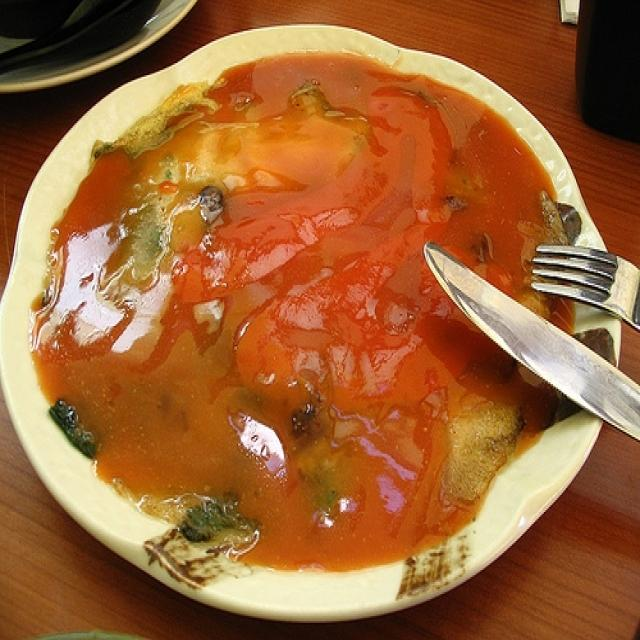熟制海鲜: (23, 44, 620, 613)
